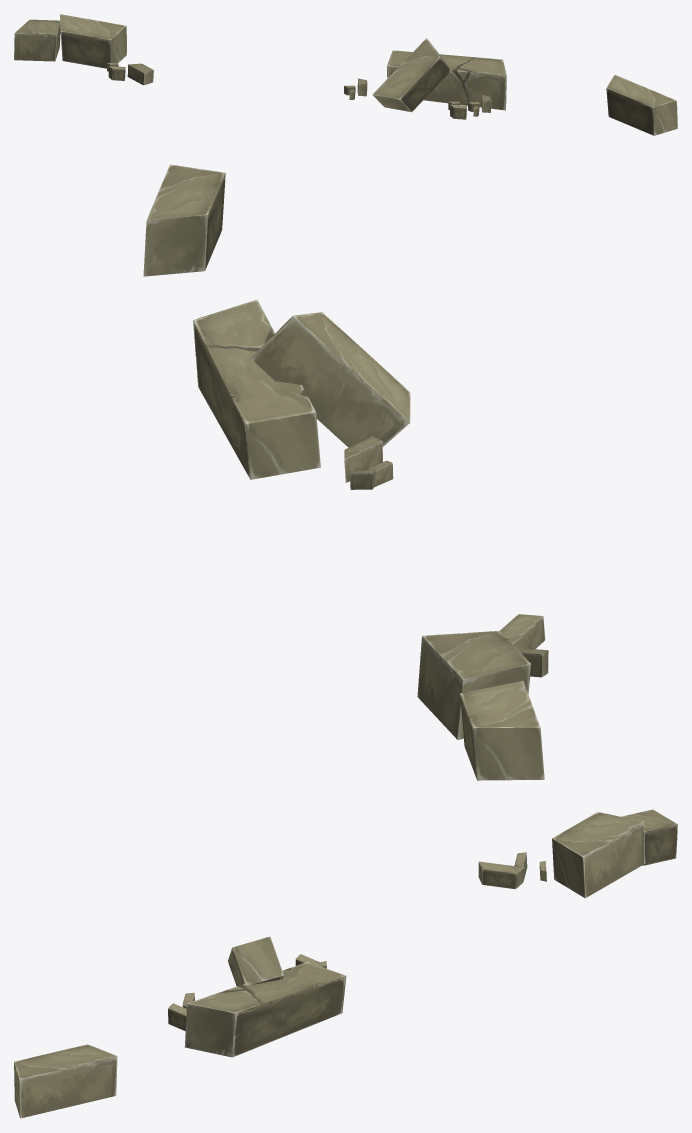
Rendered from wallrocks_diagonaltop2.fbx.
3 renders of one model, top to bottom at view 1: azimuth 30°, elevation 25°; view 2: azimuth 150°, elevation 25°; view 3: azimuth 270°, elevation 25°, orthographic. The views are drawn at different scales.
Visible parts, largest first — view 1: rocks15; view 2: rocks15; view 3: rocks15.
Boxes of the visible parts, x1=… form: rocks15: x1=14, y1=14, x2=677, y2=135; rocks15: x1=143, y1=164, x2=548, y2=780; rocks15: x1=14, y1=809, x2=677, y2=1118.
Size of the model in its own units: 1.97 by 0.2734 by 2.
